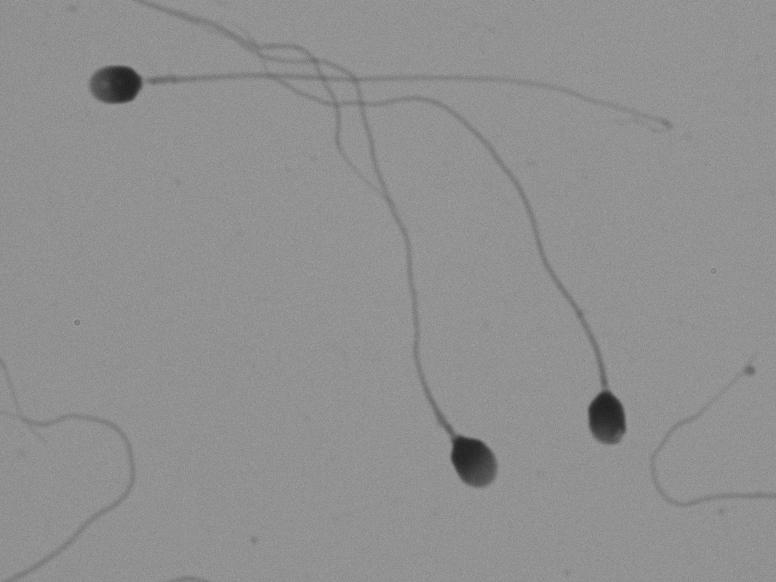Abnormal: (518, 103, 653, 477)
Normal: (71, 26, 660, 204), (339, 27, 509, 529)
